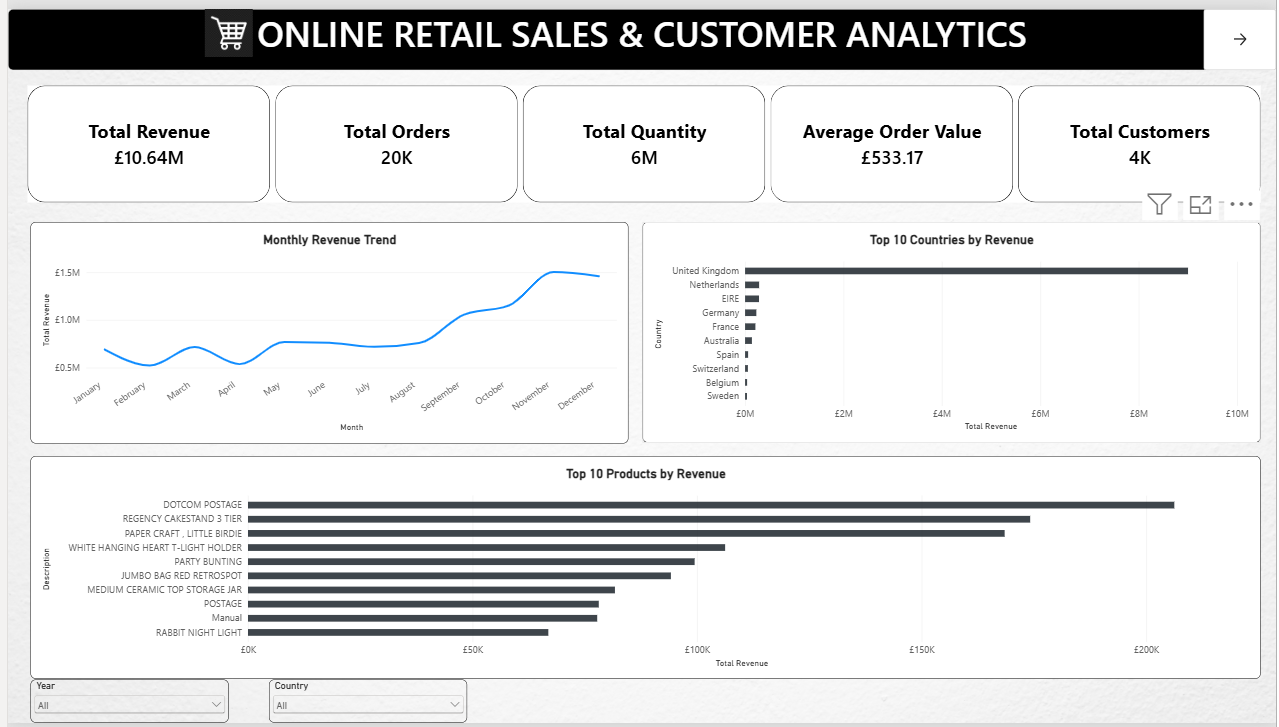

The page's visual inventory and layout, read from the dashboard file:
{"tool":"powerbi","page":{"name":"Executive Sales Overview","canvas":[1920,1080],"ordinal":0},"visuals":[{"type":"cardVisual","fields":{"Data":["Table.Total Revenue","Table.Total Orders","Table.Total Quantity","Table.Average Order Value","Table.Total Customers"]},"box":[30,115,1867.5,177.5],"z":0},{"type":"lineChart","title":"Monthly Revenue Trend","fields":{"Category":["Retail2.InvoiceDate.Variation.Date Hierarchy.Month"],"Y":["Table.Total Revenue"]},"box":[35,322.5,905,335],"z":1000},{"type":"barChart","title":"Top 10 Countries by Revenue","fields":{"Category":["Retail2.Country"],"Y":["Table.Total Revenue"]},"box":[960.8,322.5,935.8,333.9],"z":2000},{"type":"clusteredBarChart","title":"Top 10 Products by Revenue","fields":{"Category":["Retail2.Description"],"Y":["Table.Total Revenue"]},"box":[34.4,676.8,1862.8,337.3],"z":3000},{"type":"slicer","fields":{"Values":["Retail2.Year"]},"box":[35,1015,300,65],"z":4000},{"type":"slicer","fields":{"Values":["Retail2.Country"]},"box":[395,1015,300,65],"z":5000},{"type":"textbox","box":[0,0,1920.8,92.4],"z":6000},{"type":"actionButton","box":[1810,0,110,92.5],"z":7000},{"type":"image","box":[280,0,110,72.5],"z":7001}]}

Visuals, with their boxes in screenshot pixels (x1, y1, x2, y2), scaled from the page's 1920x1080 canvas onto the 1279x727 screenshot:
cardVisual - Table.Total Revenue x Table.Total Orders: [20, 77, 1264, 197]
"Monthly Revenue Trend" lineChart: [23, 217, 626, 443]
"Top 10 Countries by Revenue" barChart: [640, 217, 1263, 442]
"Top 10 Products by Revenue" clusteredBarChart: [23, 456, 1264, 683]
slicer - Retail2.Year: [23, 683, 223, 726]
slicer - Retail2.Country: [263, 683, 463, 726]
textbox: [0, 0, 1278, 62]
actionButton: [1206, 0, 1278, 62]
image: [187, 0, 260, 49]
